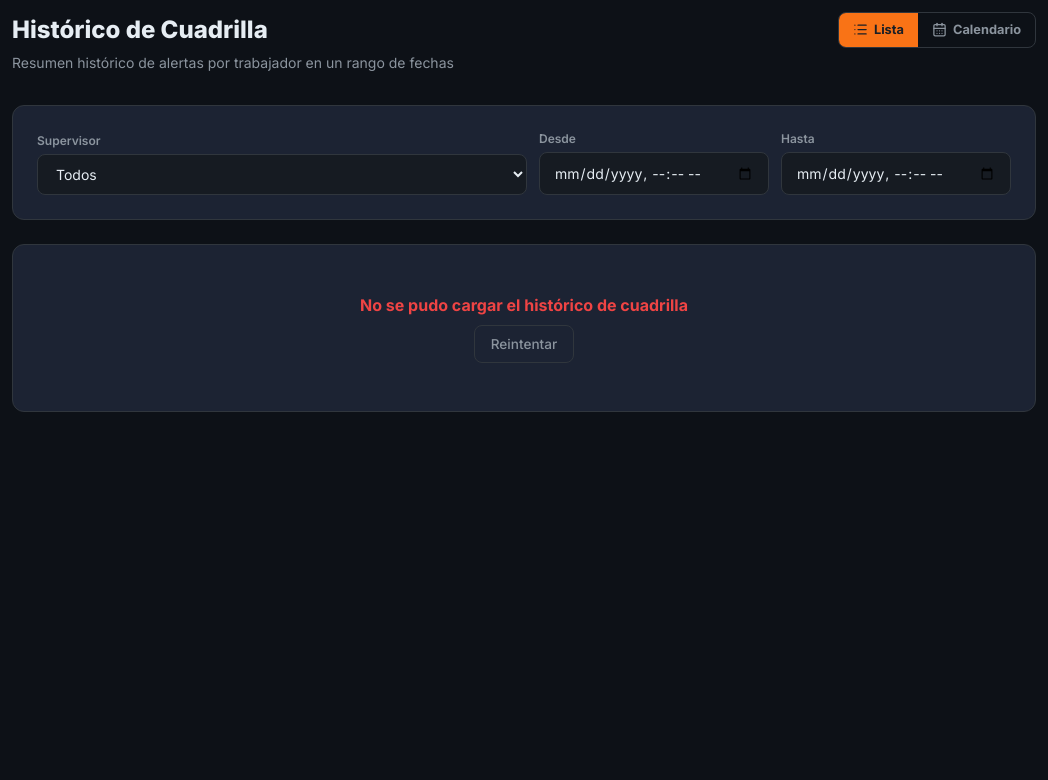
Test case: VisualizacionClient — histórico de jornadas terminadas en vivo › un error de carga muestra error inline con Reintentar (sin modal) y el retry recupera
This screenshot has width=1048, height=780.
Click the button "Reintentar": (524, 344) left=474, top=325, right=574, bottom=363
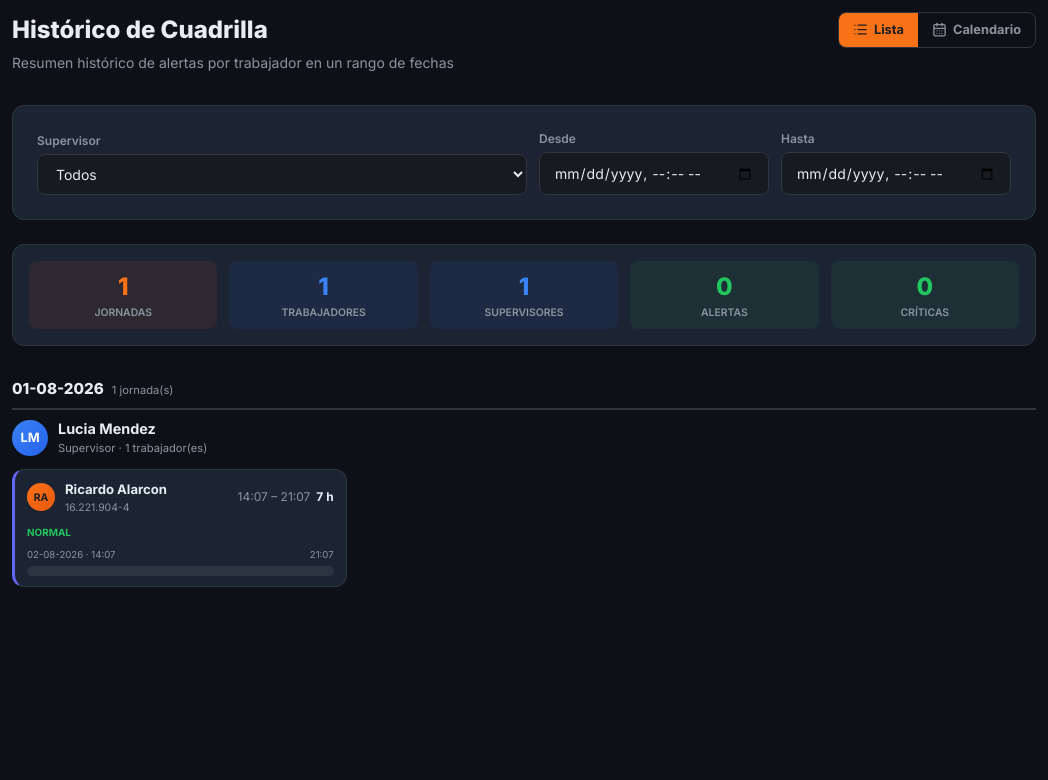
Result: the text "Ricardo Alarcon" is shown at left=65, top=481, right=167, bottom=497
